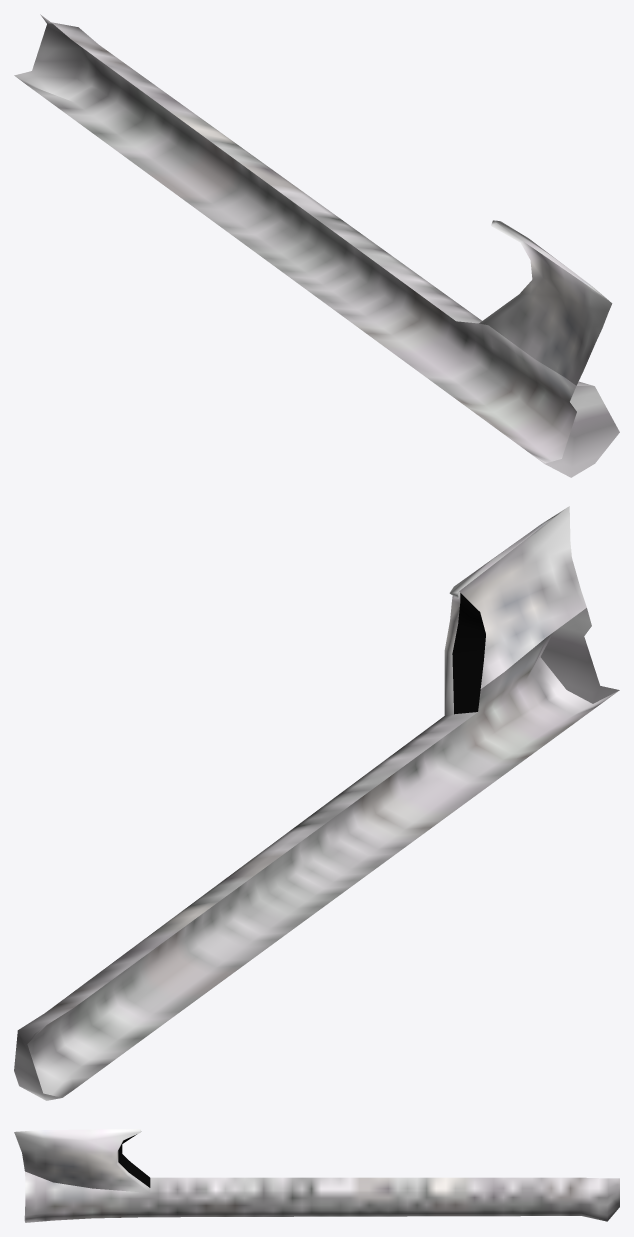
3 views of the same model, one above another, from view 1: azimuth 30°, elevation 25°; view 2: azimuth 150°, elevation 25°; view 3: azimuth 270°, elevation 25° (orthographic). The views are drawn at different scales.
Visible parts, largest first — view 1: wg_r_a_f; view 2: wg_r_a_f; view 3: wg_r_a_f.
Boxes of the visible parts, x1,y1,x2,y2 form: wg_r_a_f: (14,14,619,477); wg_r_a_f: (14,506,619,1100); wg_r_a_f: (14,1129,619,1222).
Size of the model in its own units: 0.1785 by 0.3727 by 2.08.
2 materials, 1 textured.
